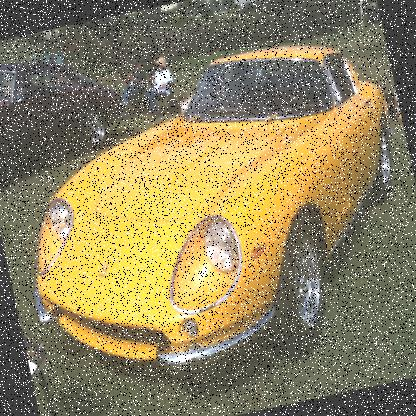Car: (0, 26, 415, 405), (0, 35, 139, 175)
